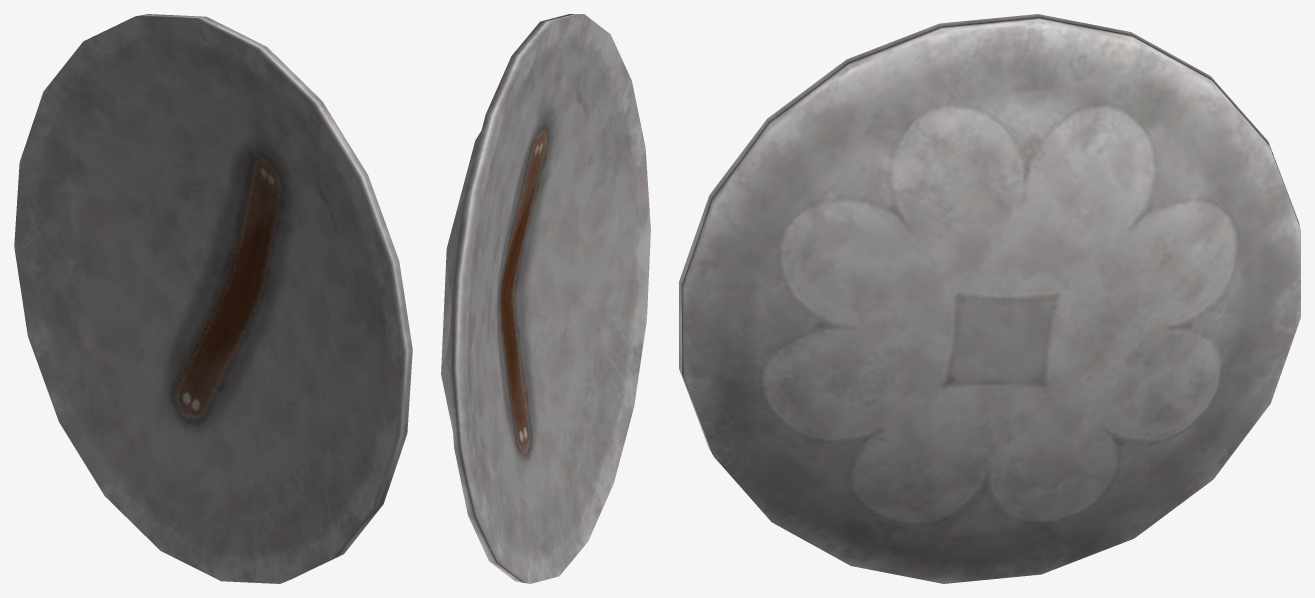
The model's file is shield-base.glb.
3 views of the same model, side by side, from view 1: azimuth 30°, elevation 25°; view 2: azimuth 150°, elevation 25°; view 3: azimuth 270°, elevation 25° (orthographic). The views are drawn at different scales.
Bounding box in the file's own units: 0.2135 × 0.7717 × 0.7596.
1 material, 1 textured.
